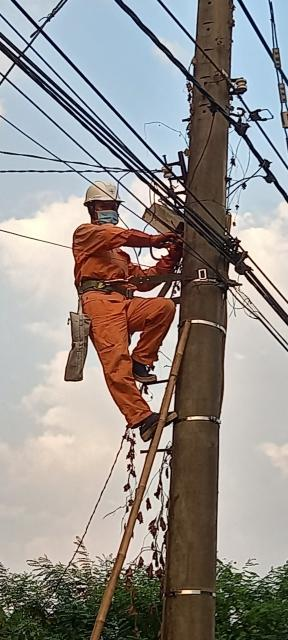gloves: (134, 244, 188, 274), (129, 227, 185, 253)
harness: (68, 276, 159, 309)
helmet: (76, 176, 130, 214)
shoes: (134, 411, 185, 440), (127, 358, 161, 388)
